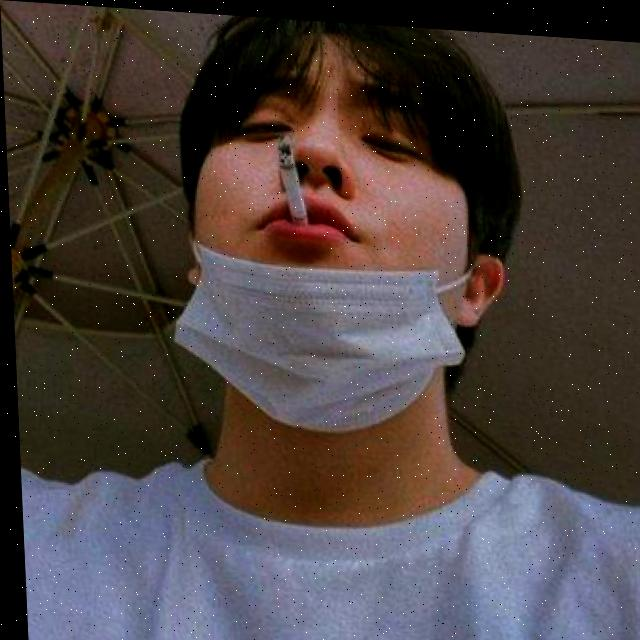cigarette: (277, 131, 306, 223)
